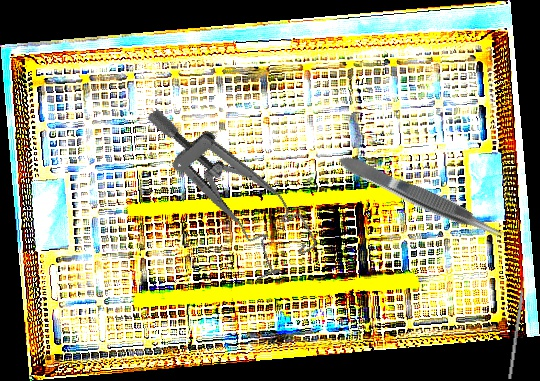Pusher: (507, 268, 528, 380)
Speculum: (143, 73, 322, 292)
Tissue Forceps: (335, 147, 511, 248)
